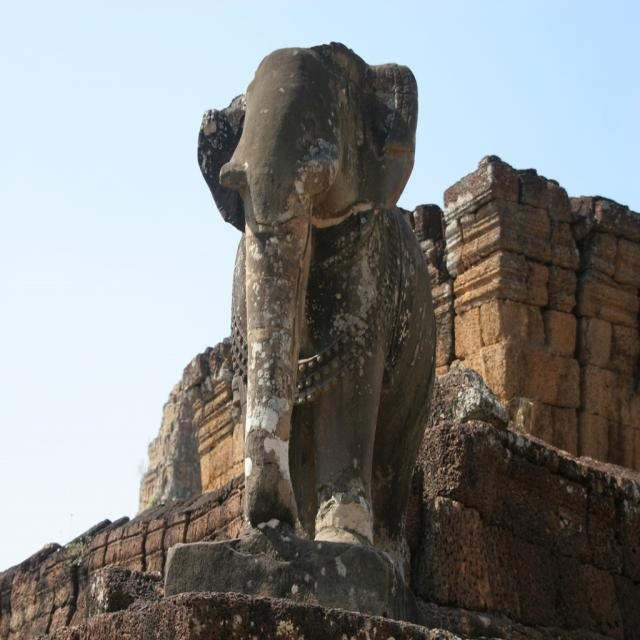Elephant: (196, 39, 437, 545)
